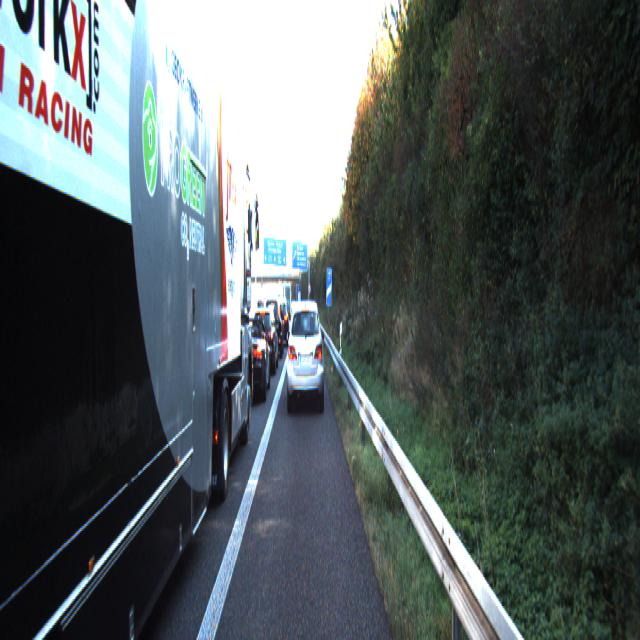Car: (8, 0, 254, 639), (286, 296, 324, 412), (231, 315, 271, 403), (249, 305, 279, 376), (262, 298, 285, 362)
